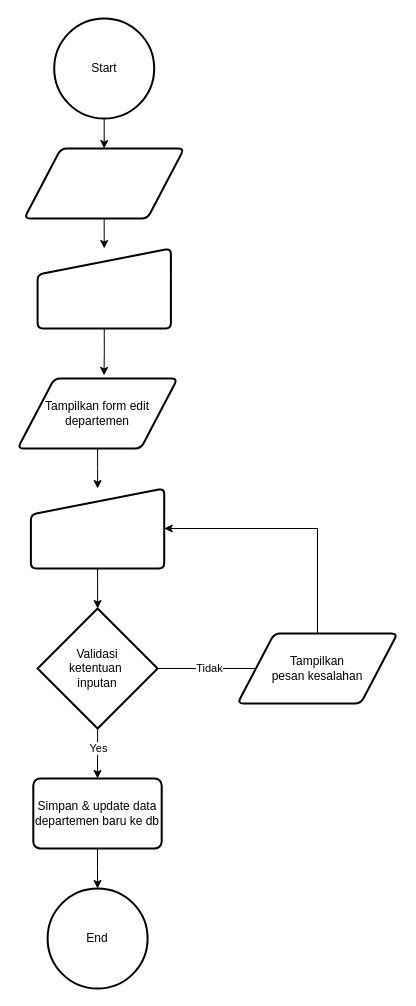
This 416x1006 diagram has some shape labels left out. Each missing label, with the box of its shape:
Input nama departemen: (29, 487, 165, 569)
pilih departemen yang diedit berdasarkan id: (36, 247, 171, 329)
Tampilkan Menu Departemen: (23, 147, 185, 219)
